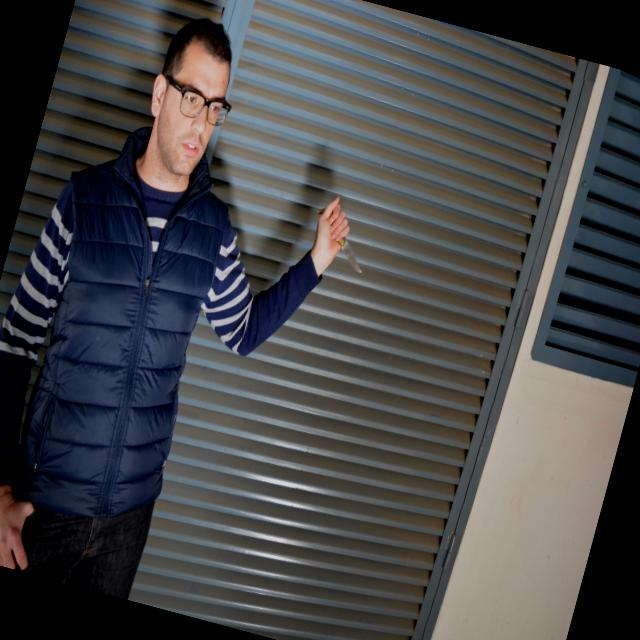knife: (302, 203, 378, 278)
